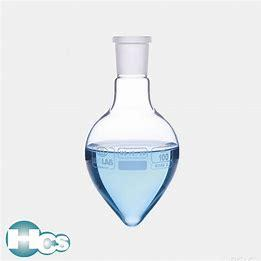Pear shaped flask: (86, 31, 182, 224)
